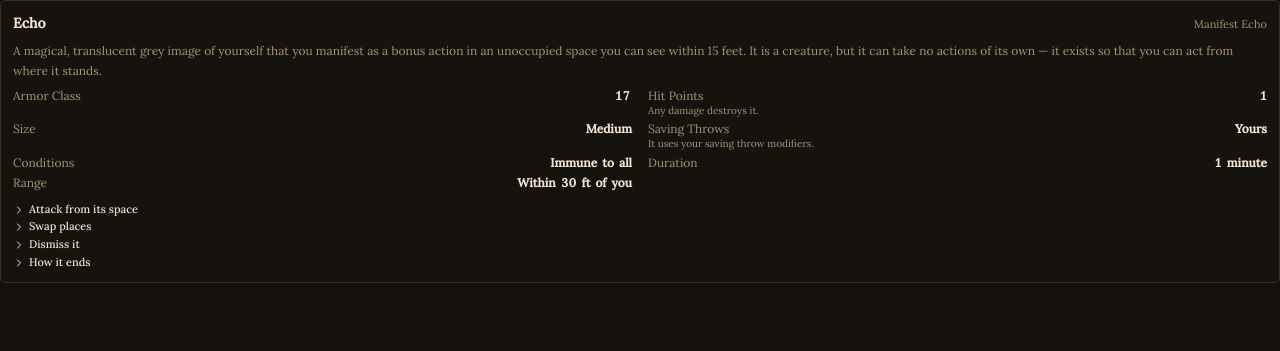
CompanionPanel › expands the AC arithmetic on click
The width and height of the screenshot is (1280, 351).
Click the button with test id "companion-echo-stat-ac": (622, 96) [612,88,632,104]
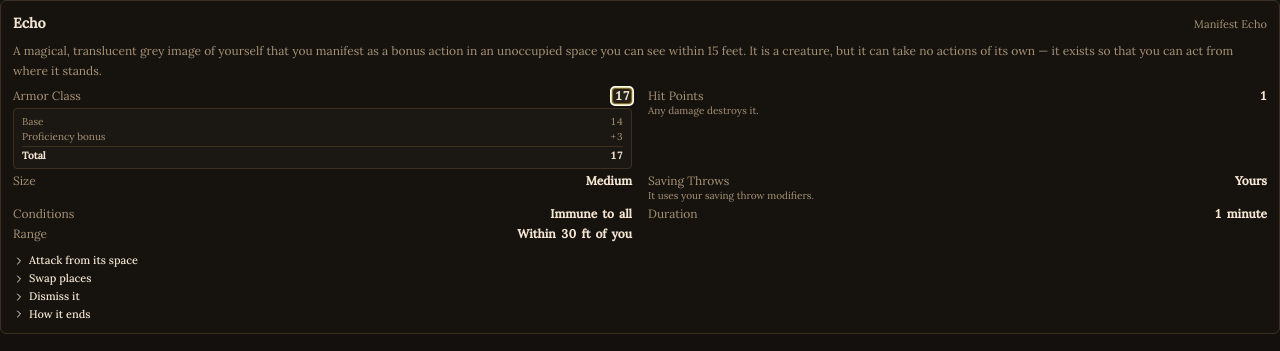
Check: the element with test id "companion-echo-stat-ac-breakdown" shows "Proficiency bonus", box [22,130,106,143]
Check: the element with test id "companion-echo-stat-ac-breakdown" shows "14", box [610,115,623,128]
